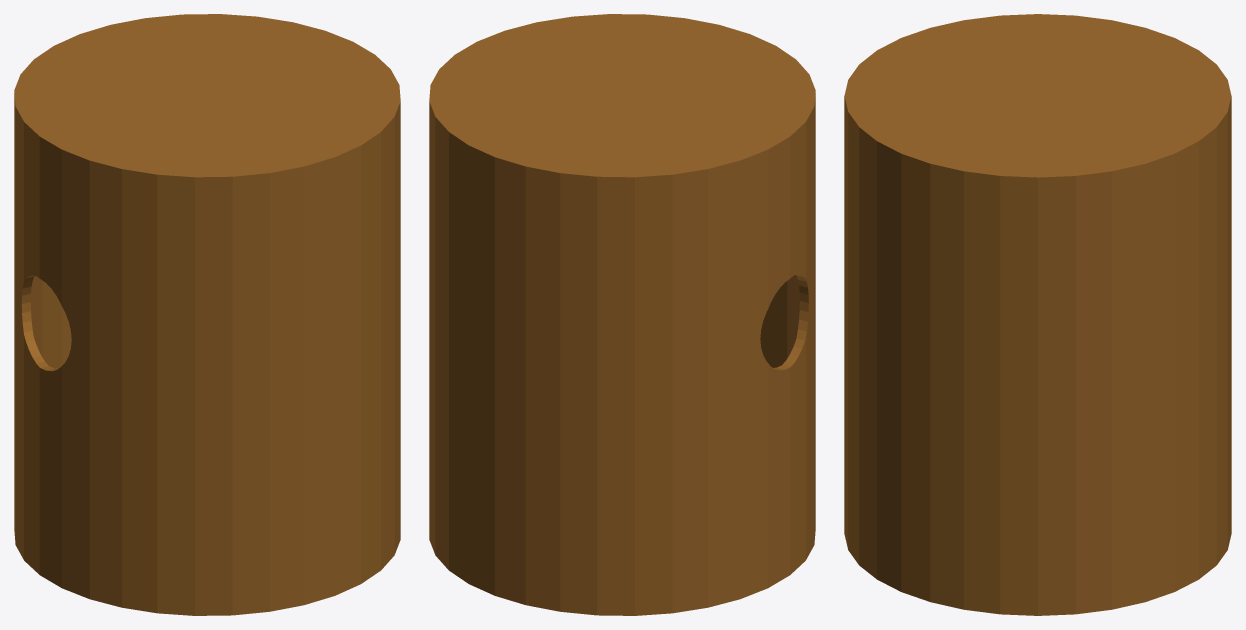
Rendered from Submarine_Body.fbx.
3 views of the same model, side by side, from view 1: azimuth 30°, elevation 25°; view 2: azimuth 150°, elevation 25°; view 3: azimuth 270°, elevation 25° (orthographic).
Visible parts, largest first — view 1: Submarine_Body; view 2: Submarine_Body; view 3: Submarine_Body.
Part boxes in pixels (x1=…): Submarine_Body: x1=14, y1=14, x2=400, y2=615; Submarine_Body: x1=429, y1=14, x2=815, y2=615; Submarine_Body: x1=844, y1=14, x2=1231, y2=615.
Size of the model in its own units: 200 by 250 by 200.
